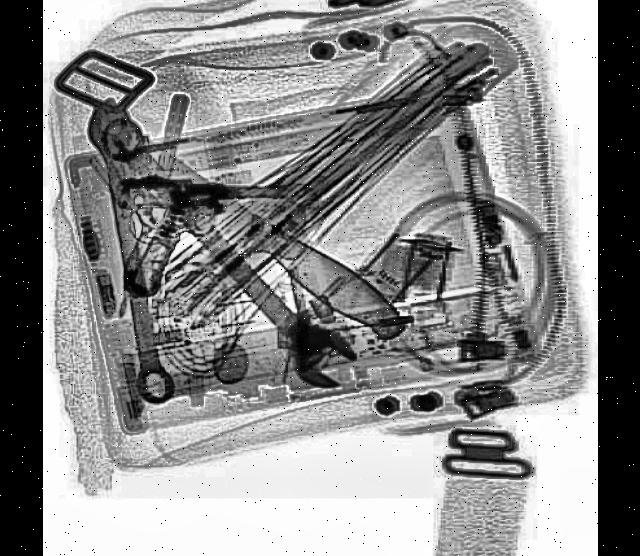Gun: (120, 171, 306, 305)
Knife: (137, 130, 411, 352)
Wrench: (90, 103, 360, 403), (84, 94, 176, 410)
